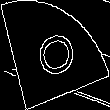O_W: (30, 27, 80, 83)
